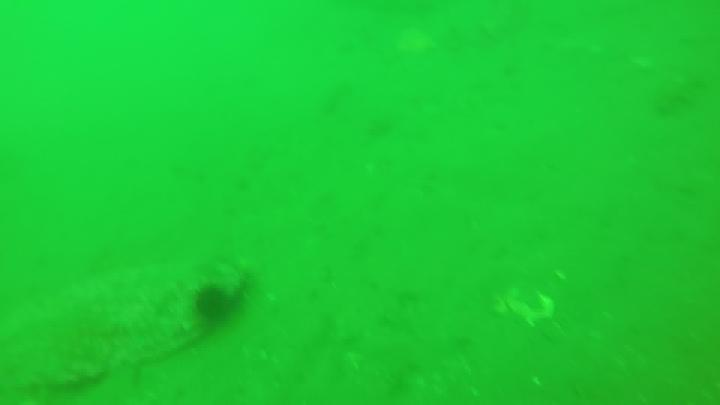echinus: (187, 283, 232, 320)
scallop: (502, 283, 560, 322)
